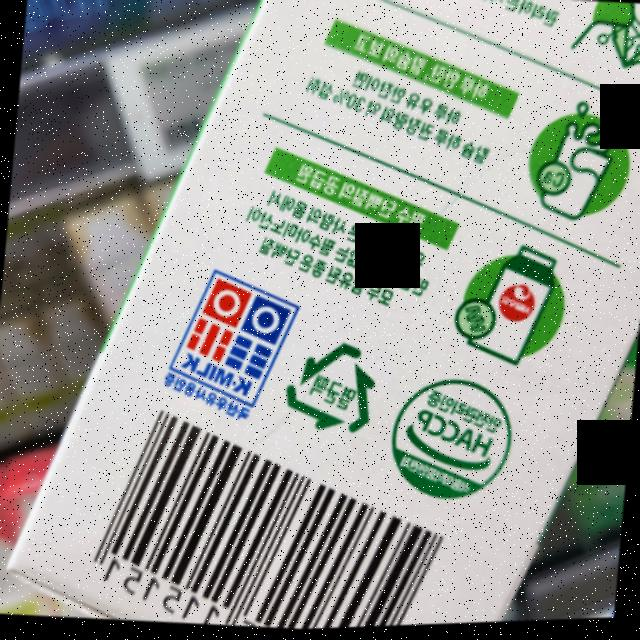SterilizedPack: (280, 334, 386, 441)
